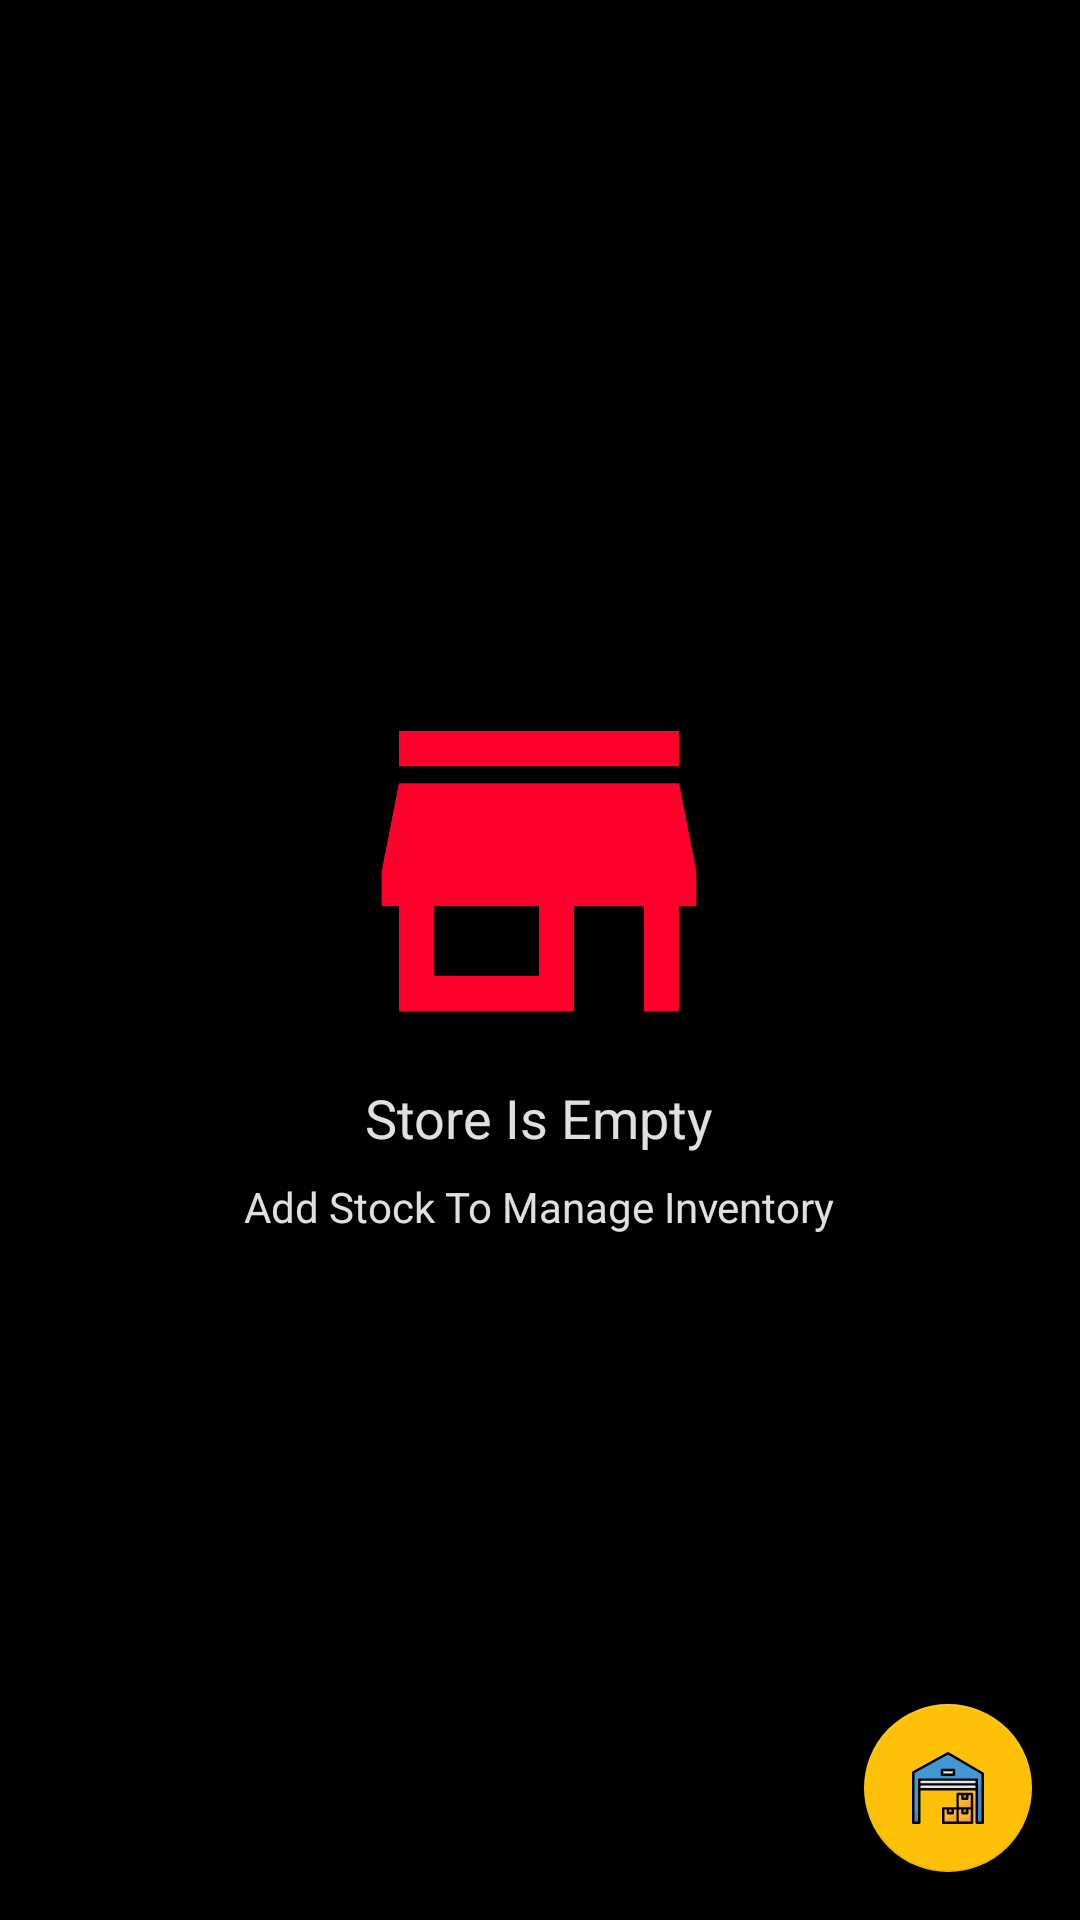

Screen size 1080 x 1920. Icon name, then its box in pixels as (x1, y1, x2, y2):
add stock: (864, 1704, 1032, 1872)
